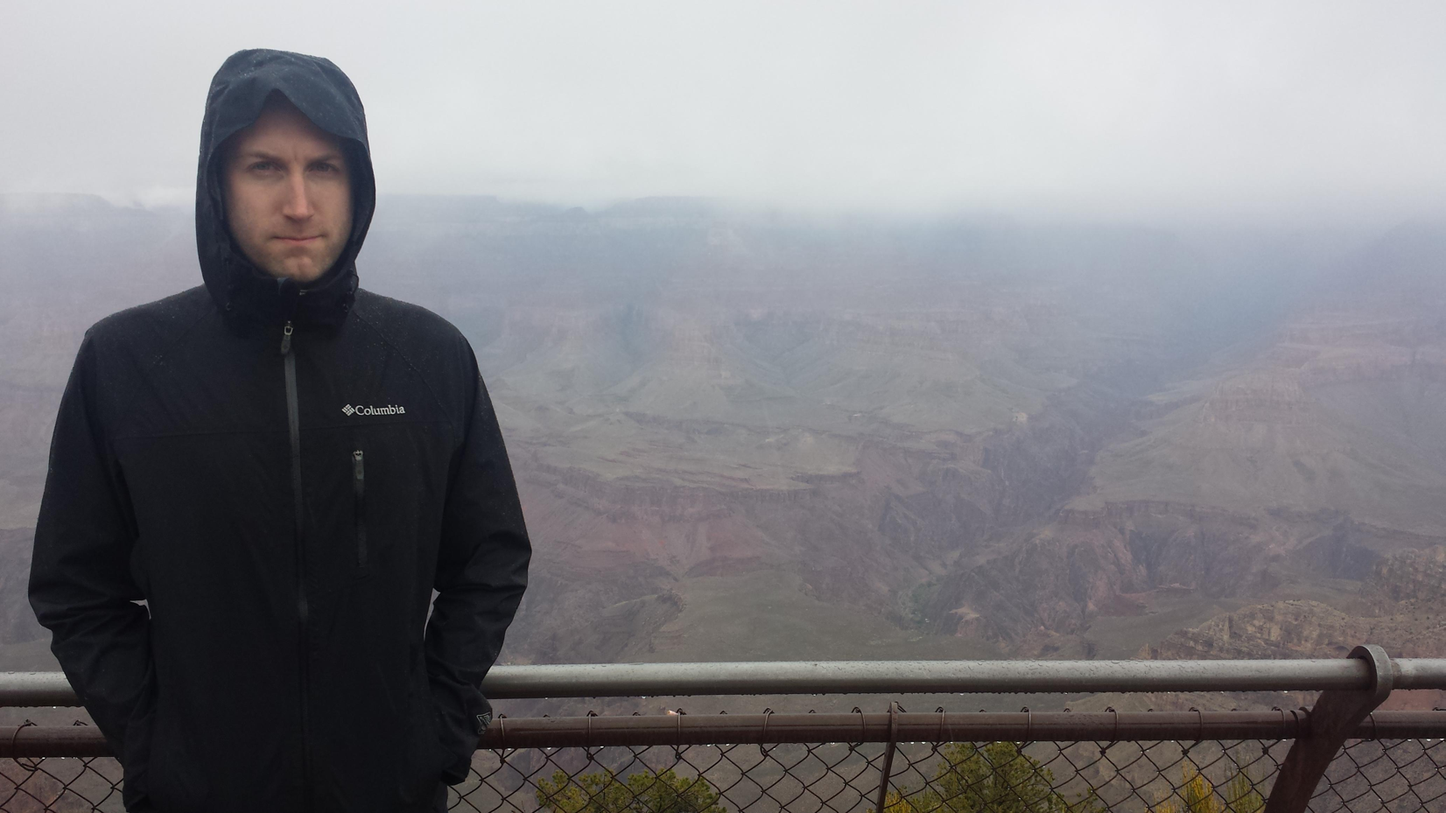person: (28, 46, 535, 813)
